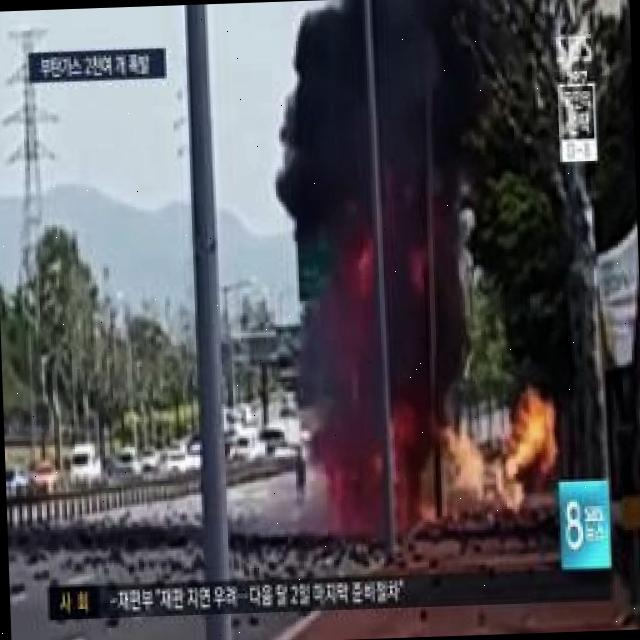fire: (445, 402, 567, 514)
